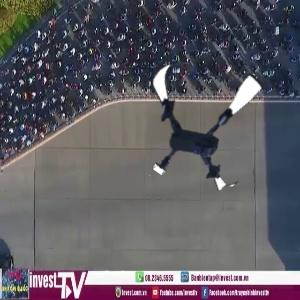drone: (136, 54, 272, 190)
